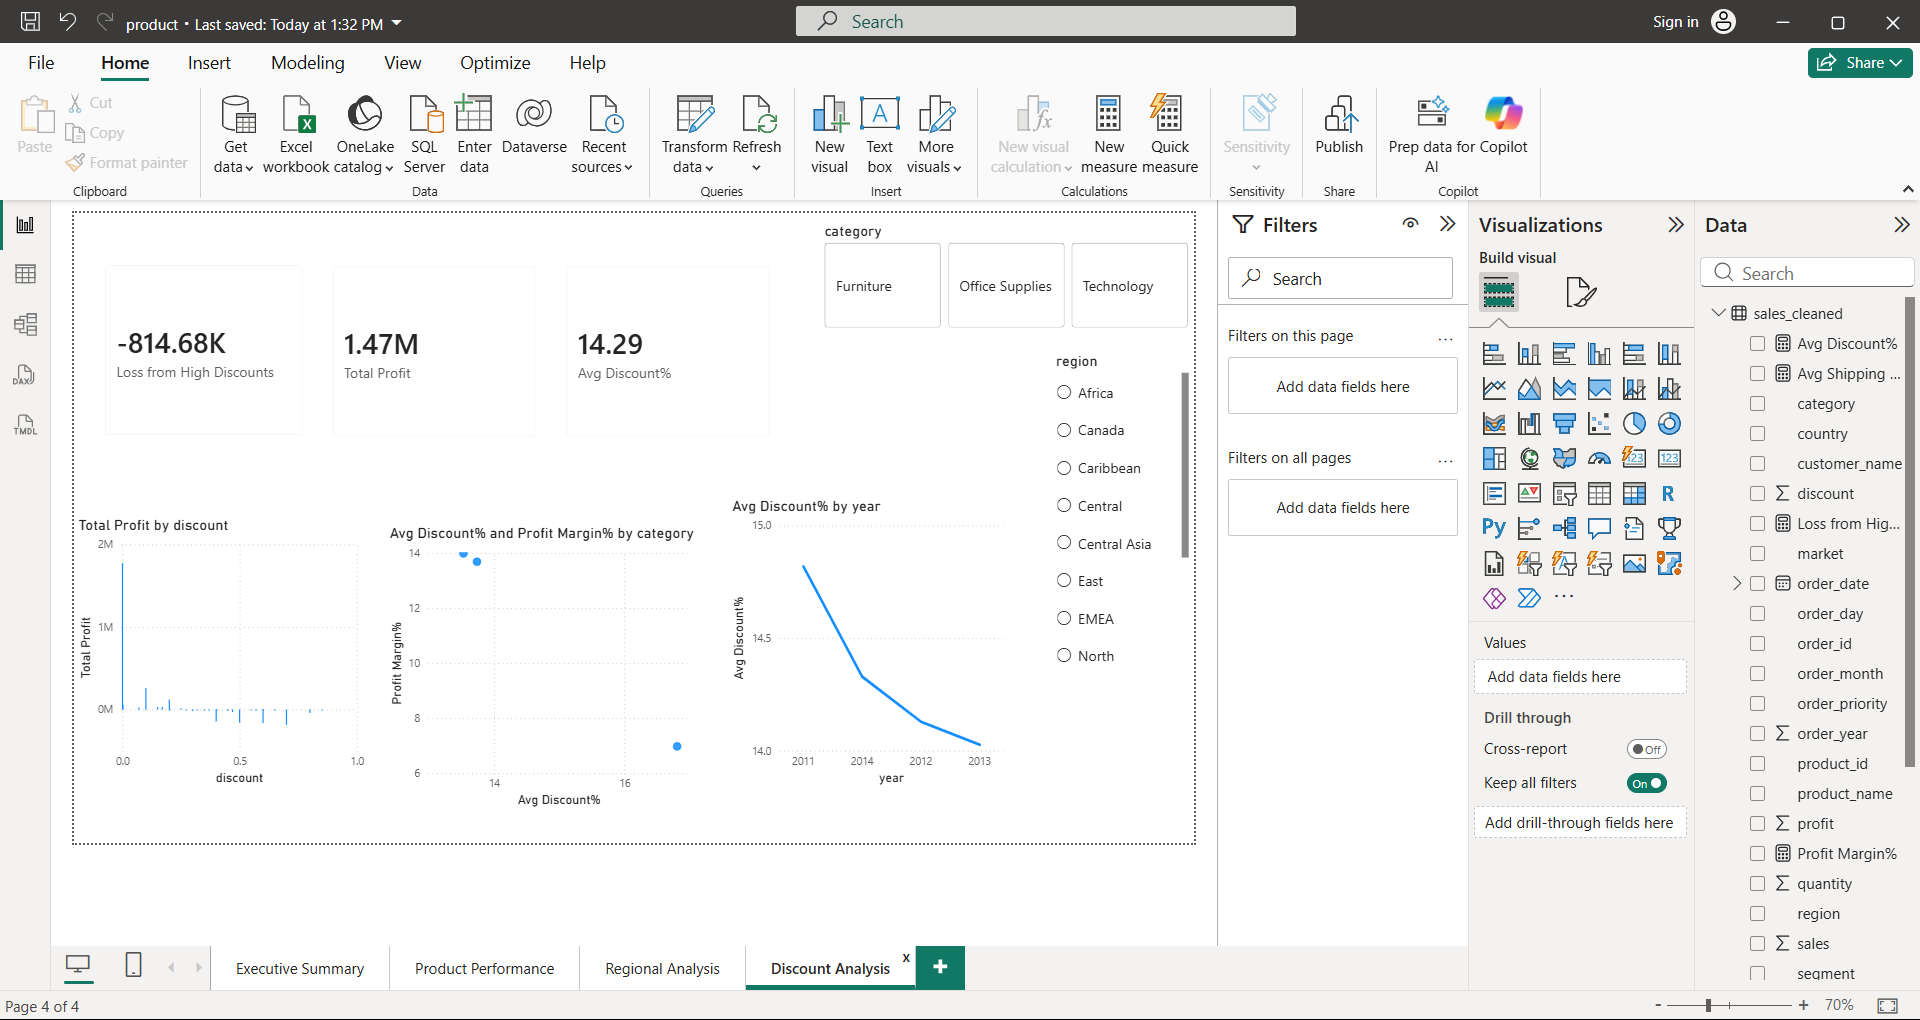

The page's visual inventory and layout, read from the dashboard file:
{"tool":"powerbi","page":{"name":"Discount Analysis","canvas":[1280,720],"ordinal":3},"visuals":[{"type":"clusteredColumnChart","fields":{"Y":["sales_cleaned.Total Profit"],"Category":["sales_cleaned.discount"]},"box":[0,345.7,337.1,312.9],"z":0},{"type":"lineChart","fields":{"Y":["sales_cleaned.Avg Discount%"],"Category":["sales_cleaned.year"]},"box":[747.1,324.3,320,334.3],"z":1},{"type":"scatterChart","fields":{"X":["sales_cleaned.Avg Discount%"],"Y":["sales_cleaned.Profit Margin%"],"Category":["sales_cleaned.category"]},"box":[355.7,355.7,360,328.6],"z":2},{"type":"advancedSlicerVisual","fields":{"Values":["sales_cleaned.category"]},"box":[852.9,10,427.1,127.1],"z":3},{"type":"listSlicer","fields":{"Values":["sales_cleaned.region"]},"box":[1117.1,158.6,162.9,374.3],"z":4},{"type":"cardVisual","fields":{"Data":["sales_cleaned.Loss from High Discounts"]},"box":[18.6,42.9,260,228.6],"z":5},{"type":"cardVisual","fields":{"Data":["sales_cleaned.Total Profit"]},"box":[278.6,44.3,267.1,228.6],"z":6},{"type":"cardVisual","fields":{"Data":["sales_cleaned.Avg Discount%"]},"box":[545.7,44.3,267.1,228.6],"z":7}]}

Visuals, with their boxes on the page's 1280x720 design canvas (x1, y1, x2, y2). These are canvas units, not pixel positions in the 1920x1020 screenshot, which may show the page scaled, cropped or inside an application window:
clusteredColumnChart - sales_cleaned.Total Profit x sales_cleaned.discount: left=0, top=346, right=337, bottom=659
lineChart - sales_cleaned.Avg Discount% x sales_cleaned.year: left=747, top=324, right=1067, bottom=659
scatterChart - sales_cleaned.Avg Discount% x sales_cleaned.Profit Margin%: left=356, top=356, right=716, bottom=684
advancedSlicerVisual - sales_cleaned.category: left=853, top=10, right=1280, bottom=137
listSlicer - sales_cleaned.region: left=1117, top=159, right=1280, bottom=533
cardVisual - sales_cleaned.Loss from High Discounts: left=19, top=43, right=279, bottom=272
cardVisual - sales_cleaned.Total Profit: left=279, top=44, right=546, bottom=273
cardVisual - sales_cleaned.Avg Discount%: left=546, top=44, right=813, bottom=273
